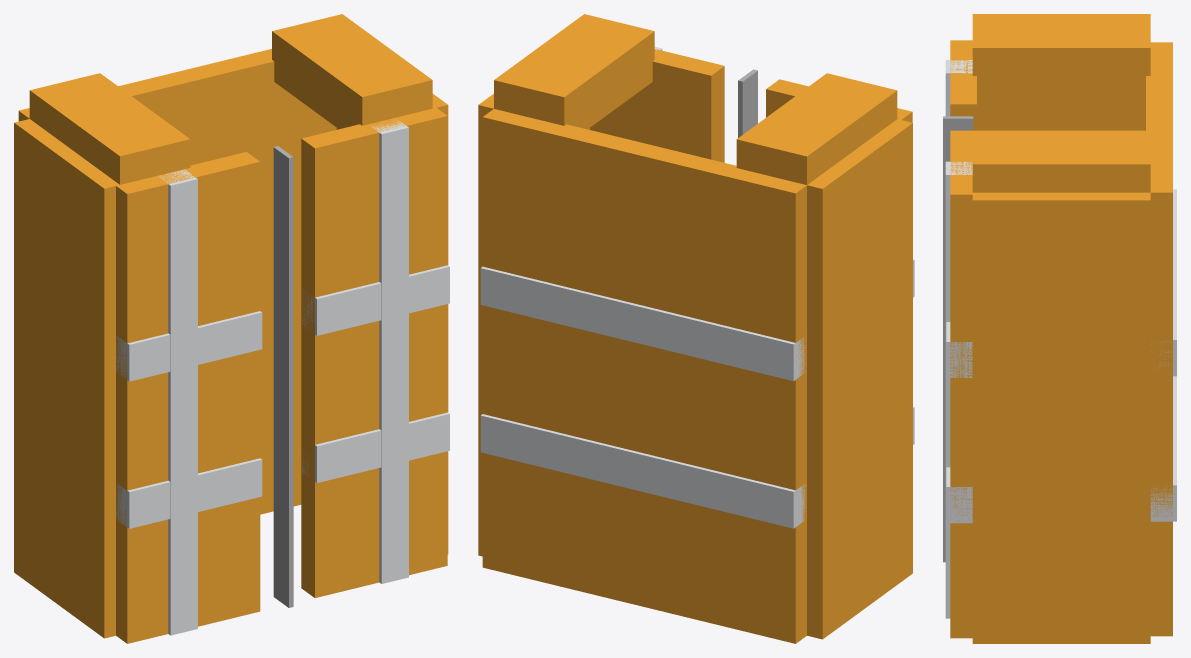
File: ppe_hivis_vest.glb
The picture shows the model from 3 angles, left to right: view 1: azimuth 30°, elevation 25°; view 2: azimuth 150°, elevation 25°; view 3: azimuth 270°, elevation 25°; orthographic projection.
Parts seen in each view (by area): view 1: ppe_hivis_vest_4, ppe_hivis_vest_1, ppe_hivis_vest_0, ppe_hivis_vest_2, ppe_hivis_vest_13, ppe_hivis_vest_14, ppe_hivis_vest_5, ppe_hivis_vest_3, ppe_hivis_vest_15, ppe_hivis_vest_7, ppe_hivis_vest_10, ppe_hivis_vest_11 (+2 smaller); view 2: ppe_hivis_vest_2, ppe_hivis_vest_4, ppe_hivis_vest_9, ppe_hivis_vest_12, ppe_hivis_vest_5, ppe_hivis_vest_3, ppe_hivis_vest_1, ppe_hivis_vest_6, ppe_hivis_vest_15, ppe_hivis_vest_0; view 3: ppe_hivis_vest_6, ppe_hivis_vest_3, ppe_hivis_vest_2, ppe_hivis_vest_5, ppe_hivis_vest_1, ppe_hivis_vest_4, ppe_hivis_vest_14, ppe_hivis_vest_15, ppe_hivis_vest_0, ppe_hivis_vest_9, ppe_hivis_vest_8, ppe_hivis_vest_11 (+2 smaller).
Part boxes in pixels (left/top/right/bottom): ppe_hivis_vest_4: left=14, top=119, right=117, bottom=638; ppe_hivis_vest_1: left=301, top=106, right=447, bottom=597; ppe_hivis_vest_0: left=114, top=152, right=260, bottom=643; ppe_hivis_vest_2: left=18, top=49, right=336, bottom=514; ppe_hivis_vest_13: left=158, top=169, right=197, bottom=635; ppe_hivis_vest_14: left=371, top=121, right=408, bottom=583; ppe_hivis_vest_5: left=272, top=14, right=432, bottom=129; ppe_hivis_vest_3: left=29, top=73, right=190, bottom=184; ppe_hivis_vest_15: left=273, top=146, right=293, bottom=607; ppe_hivis_vest_7: left=116, top=458, right=262, bottom=528; ppe_hivis_vest_10: left=116, top=311, right=262, bottom=381; ppe_hivis_vest_11: left=302, top=265, right=449, bottom=335; ppe_hivis_vest_2: left=482, top=109, right=806, bottom=643; ppe_hivis_vest_4: left=807, top=119, right=912, bottom=639; ppe_hivis_vest_9: left=480, top=414, right=806, bottom=528; ppe_hivis_vest_12: left=480, top=266, right=806, bottom=381; ppe_hivis_vest_5: left=494, top=14, right=654, bottom=129; ppe_hivis_vest_3: left=736, top=73, right=897, bottom=184; ppe_hivis_vest_1: left=590, top=49, right=724, bottom=162; ppe_hivis_vest_6: left=478, top=94, right=589, bottom=556; ppe_hivis_vest_15: left=738, top=69, right=757, bottom=137; ppe_hivis_vest_0: left=766, top=79, right=912, bottom=122; ppe_hivis_vest_6: left=972, top=192, right=1150, bottom=643; ppe_hivis_vest_3: left=972, top=14, right=1150, bottom=96; ppe_hivis_vest_2: left=1146, top=42, right=1172, bottom=636; ppe_hivis_vest_5: left=972, top=130, right=1150, bottom=192; ppe_hivis_vest_1: left=950, top=130, right=976, bottom=638; ppe_hivis_vest_4: left=977, top=96, right=1145, bottom=130; ppe_hivis_vest_14: left=945, top=161, right=972, bottom=618; ppe_hivis_vest_15: left=943, top=116, right=973, bottom=562; ppe_hivis_vest_0: left=950, top=40, right=976, bottom=130; ppe_hivis_vest_9: left=1150, top=376, right=1176, bottom=521; ppe_hivis_vest_8: left=946, top=467, right=972, bottom=523; ppe_hivis_vest_11: left=946, top=322, right=972, bottom=377.
Bounding box in the file's own units: 0.44 × 0.585 × 0.2625.
